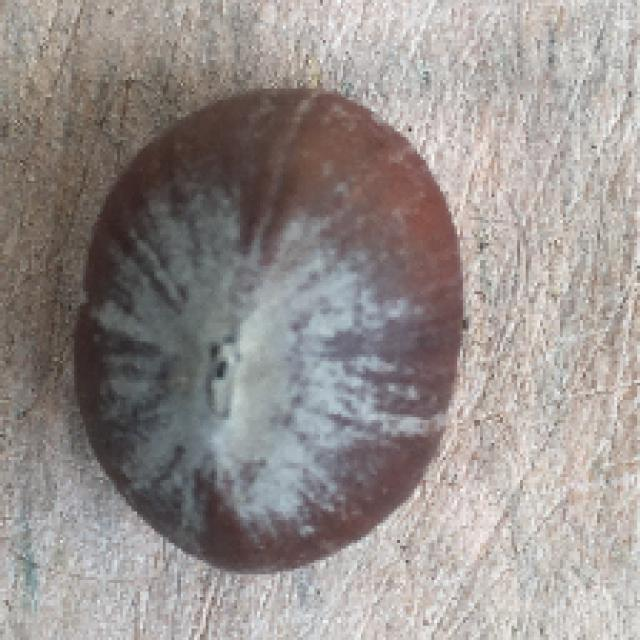damagedHazelnut: (55, 76, 467, 565)
